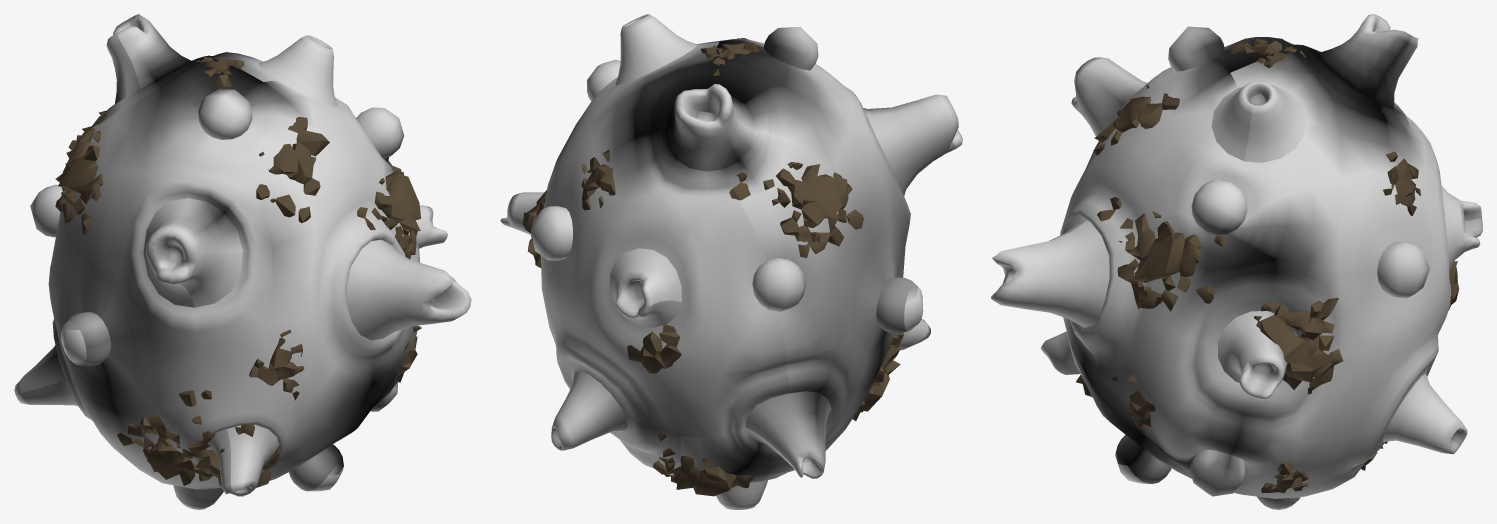
Rendered from p_mesh_gaspotato01_large_pose0.fbx.
3 renders of one model, left to right at view 1: azimuth 30°, elevation 25°; view 2: azimuth 150°, elevation 25°; view 3: azimuth 270°, elevation 25°, orthographic. The views are drawn at different scales.
Visible parts, largest first — view 1: p_mesh_gaspotato03_pose0; view 2: p_mesh_gaspotato03_pose0; view 3: p_mesh_gaspotato03_pose0.
Boxes of the visible parts, x1,y1,x2,y2 form: p_mesh_gaspotato03_pose0: [14, 14, 471, 509]; p_mesh_gaspotato03_pose0: [500, 14, 962, 509]; p_mesh_gaspotato03_pose0: [991, 14, 1482, 509].
Size of the model in its own units: 50.02 by 54.59 by 50.86.
